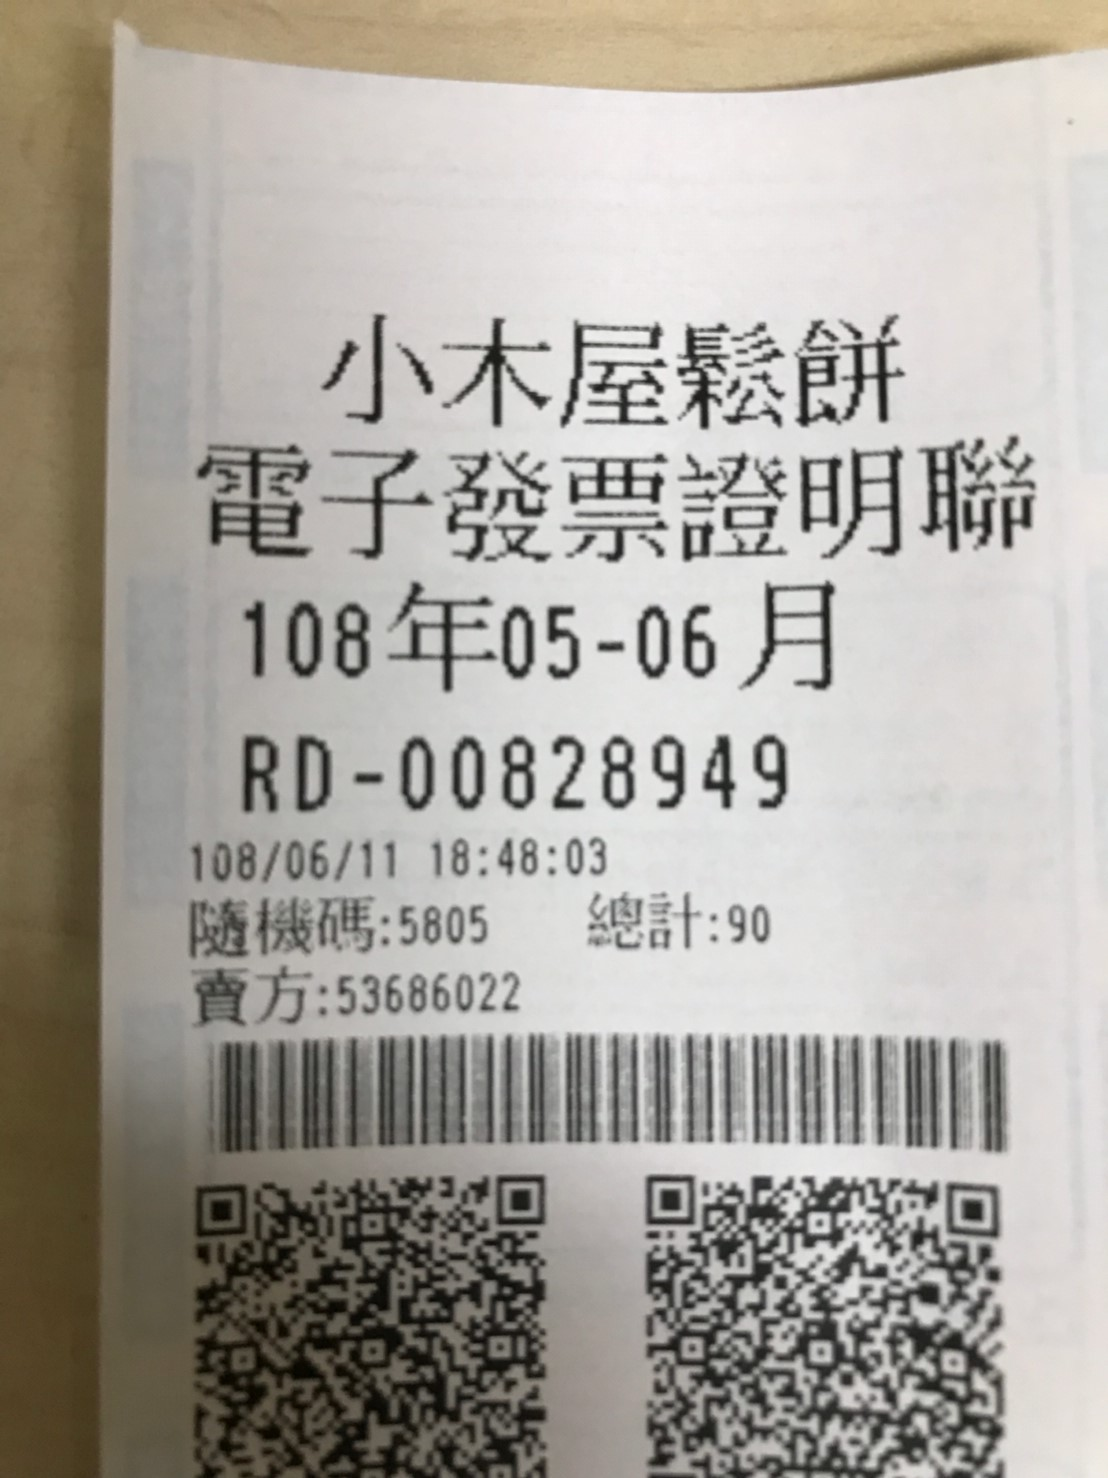Date_New: (237, 568, 841, 695)
Number_New: (393, 730, 789, 812)
